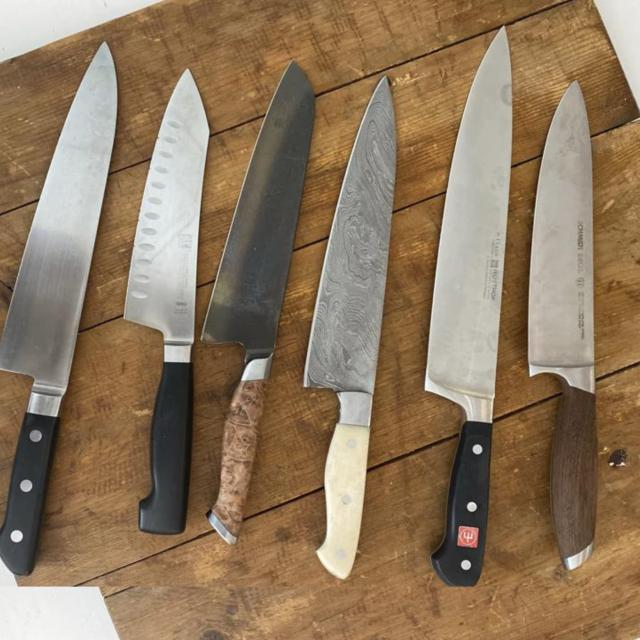Weapon: (0, 42, 117, 575), (201, 61, 314, 544), (425, 27, 512, 587), (304, 77, 396, 579), (124, 69, 209, 534), (528, 81, 597, 570)
